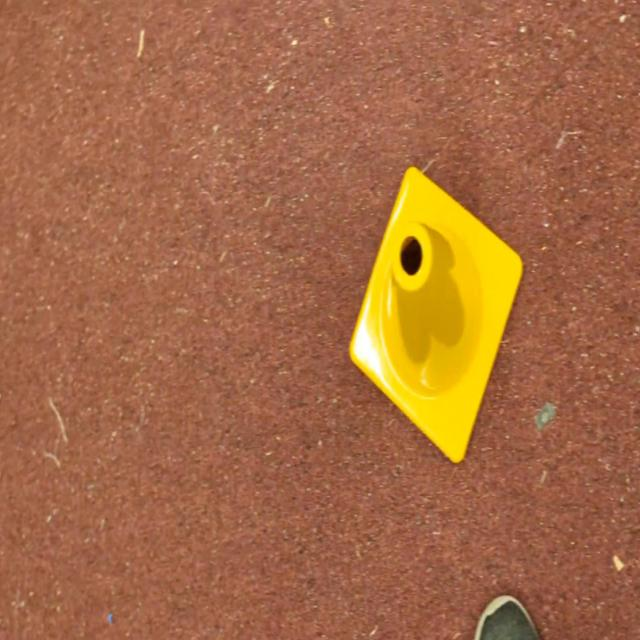frc_cone: (347, 166, 525, 466)
